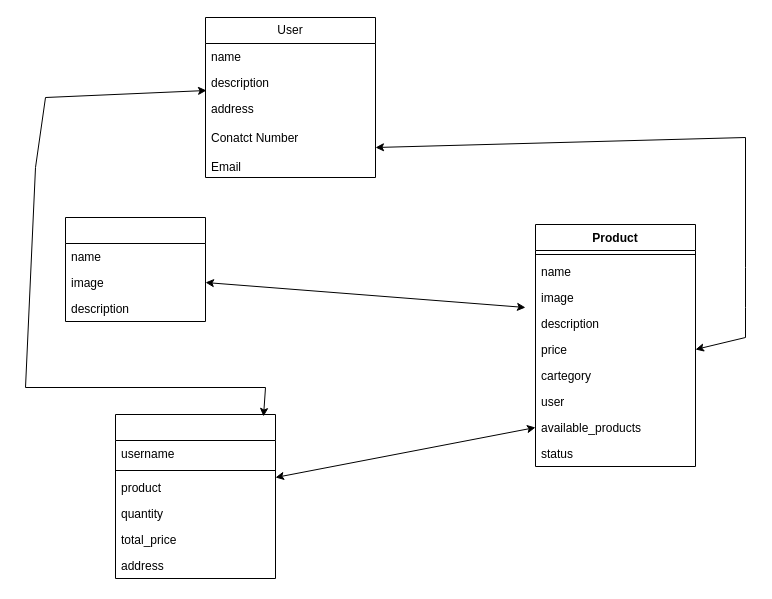
Some shapes in this 772 by 599 pixel diagram are drawn without their labels. Each missing label, with the box of its shape:
Cart: (114, 414, 276, 578)
Category: (64, 216, 206, 322)
